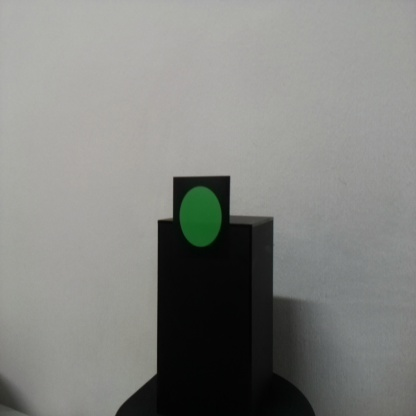id_5: (172, 175, 231, 262)
